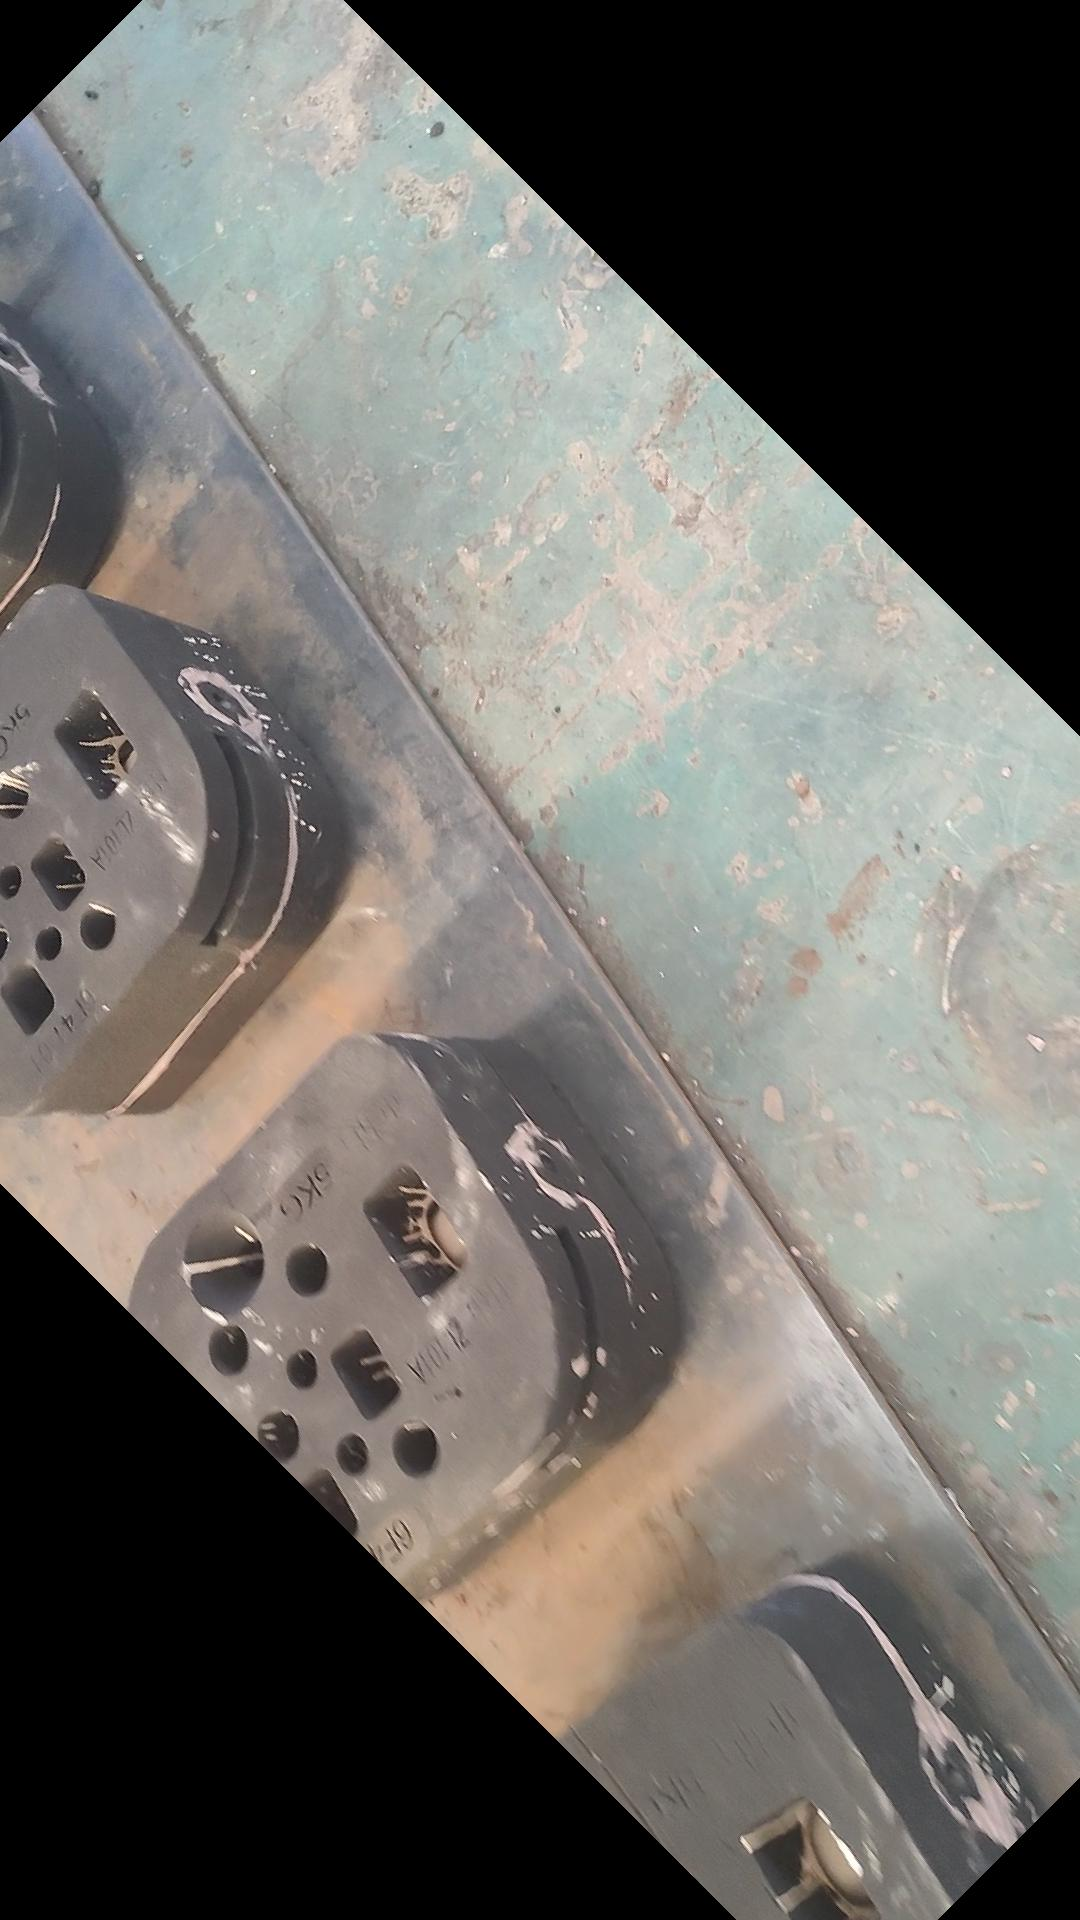pouring hole: (185, 1213, 265, 1312)
